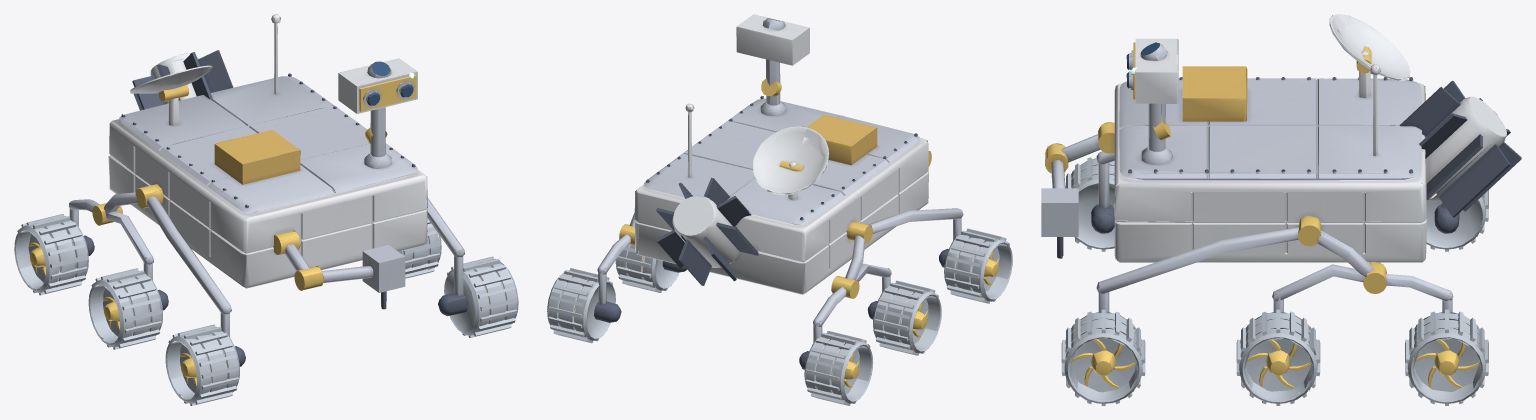
The model's file is rover.glb.
3 renders of one model, left to right at view 1: azimuth 30°, elevation 25°; view 2: azimuth 150°, elevation 25°; view 3: azimuth 270°, elevation 25°, orthographic. The views are drawn at different scales.
Visible parts, largest first — view 1: mars-rover_body; view 2: mars-rover_body; view 3: mars-rover_body.
Part boxes in pixels (box(x1,y1,x2,y2)): mars-rover_body: box(14, 14, 518, 405); mars-rover_body: box(547, 14, 1012, 405); mars-rover_body: box(1041, 14, 1521, 405).
Size of the model in its own units: 2.7 by 2.17 by 3.08.
20 materials, 1 textured.
